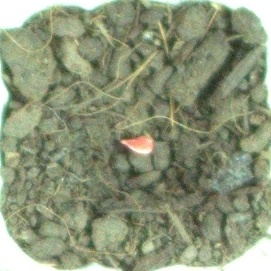chilli seed: (117, 131, 156, 157)
